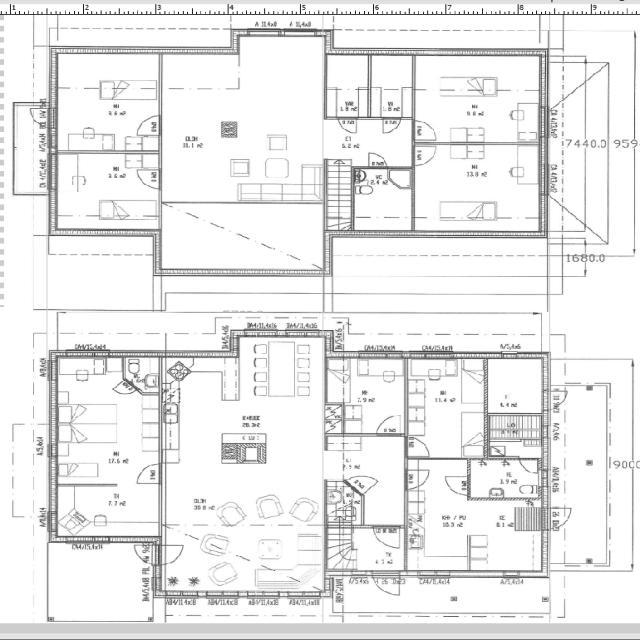door: (369, 524, 404, 552), (402, 464, 433, 492), (371, 571, 401, 597), (372, 412, 406, 434), (546, 506, 574, 531), (443, 474, 472, 498), (132, 461, 162, 484), (412, 118, 440, 142), (134, 167, 162, 191), (412, 141, 438, 166), (134, 114, 161, 138), (404, 437, 432, 459), (547, 385, 571, 410), (158, 542, 184, 564), (516, 455, 541, 475), (338, 116, 358, 134)
window: (237, 325, 319, 342), (239, 25, 316, 39), (154, 479, 168, 531)
zone: (160, 341, 328, 530), (159, 42, 324, 205), (404, 457, 547, 576), (50, 354, 161, 484), (412, 143, 546, 235), (414, 50, 544, 142), (51, 47, 160, 152), (160, 528, 324, 596), (46, 540, 160, 622), (50, 152, 161, 231), (404, 357, 490, 458), (327, 356, 408, 435), (48, 482, 161, 536), (322, 436, 405, 509), (323, 117, 411, 168), (352, 167, 413, 235), (417, 56, 542, 86), (485, 356, 547, 414), (488, 413, 544, 457), (120, 353, 160, 395), (323, 54, 372, 88), (367, 53, 412, 88), (323, 88, 372, 119), (367, 88, 412, 118)
